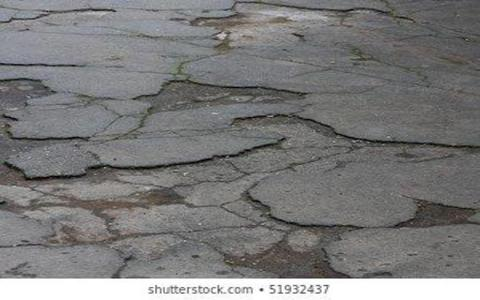patchy roads: (176, 81, 453, 253), (1, 16, 163, 238)
